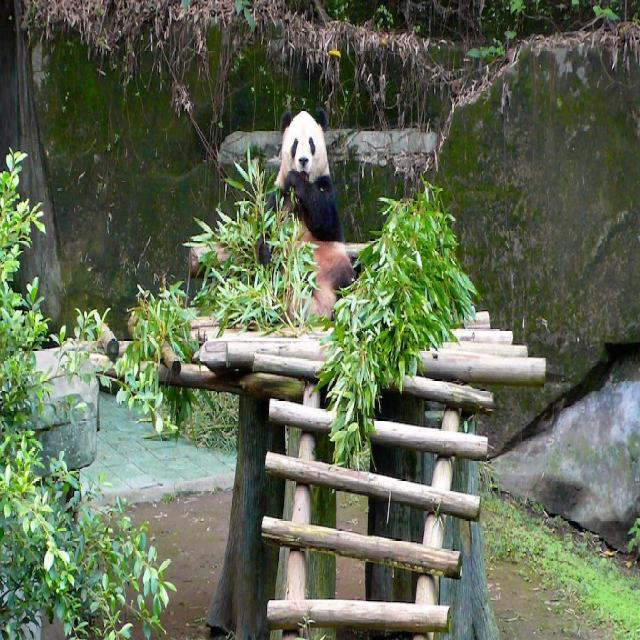panda: (258, 111, 351, 328)
